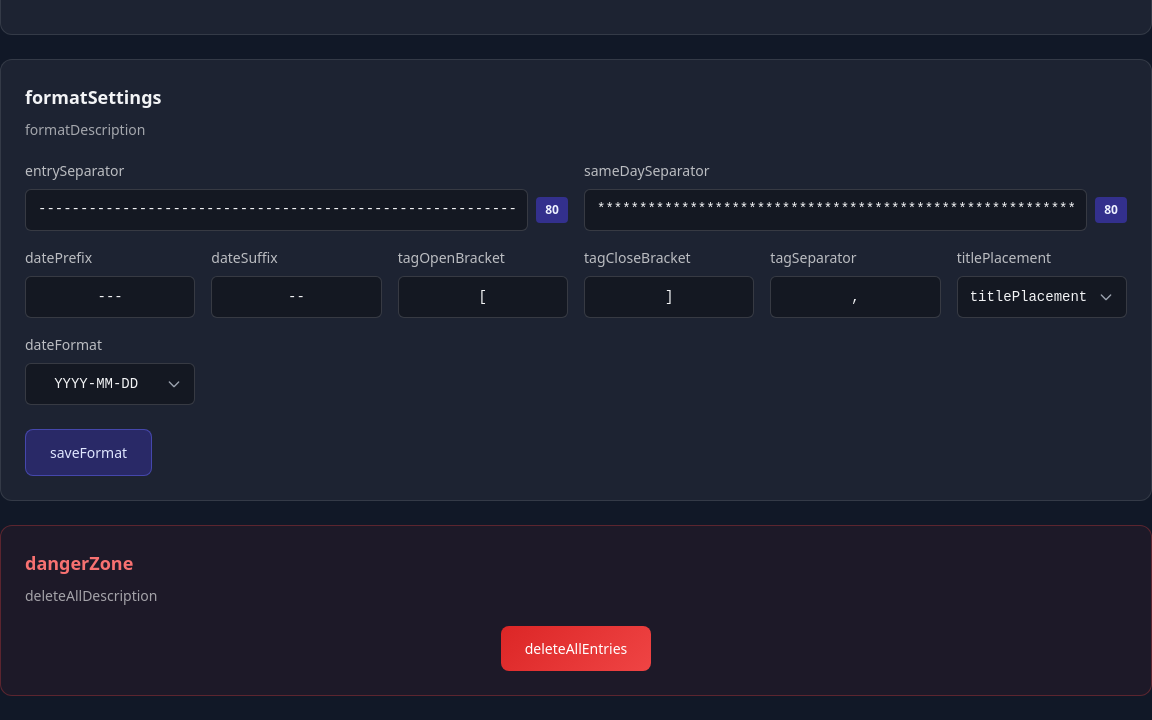
Test: ImportExport › cancels delete all when cancel is clicked
This screenshot has width=1152, height=720.
(page scrolled)
Click the button "deleteAllEntries". click: [576, 649]
box: top-left (501, 626), bottom-right (651, 671)
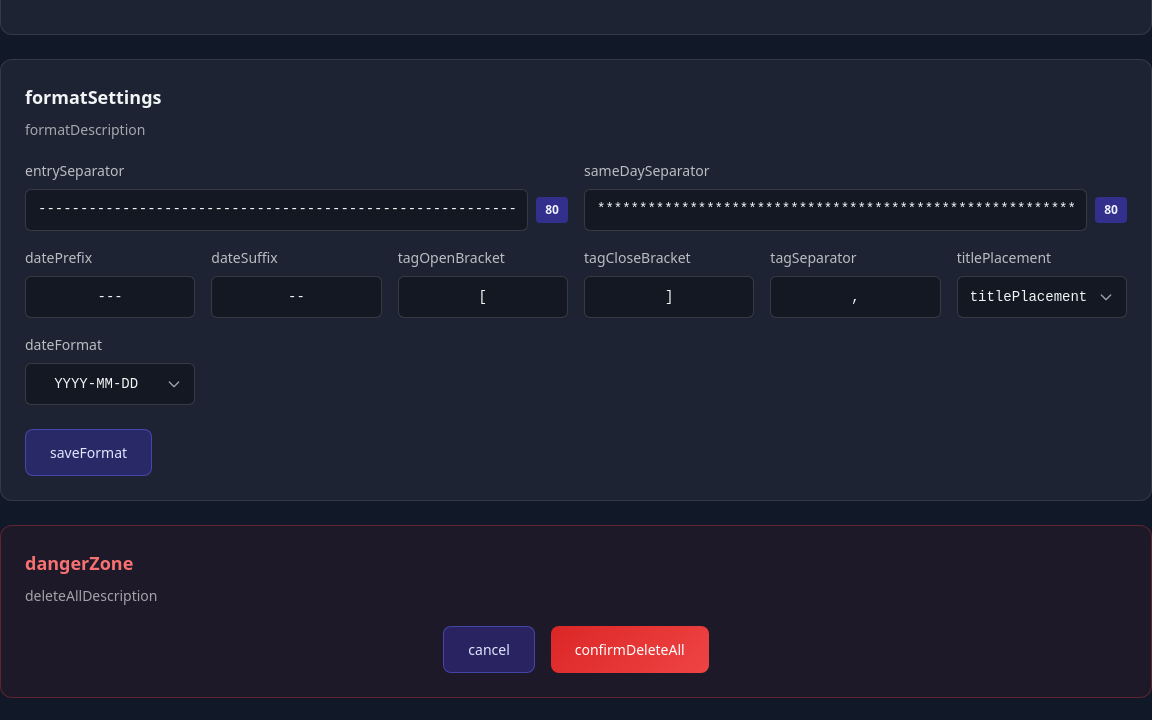
Click the button "cancel". click: [489, 650]
box: top-left (443, 626), bottom-right (535, 673)
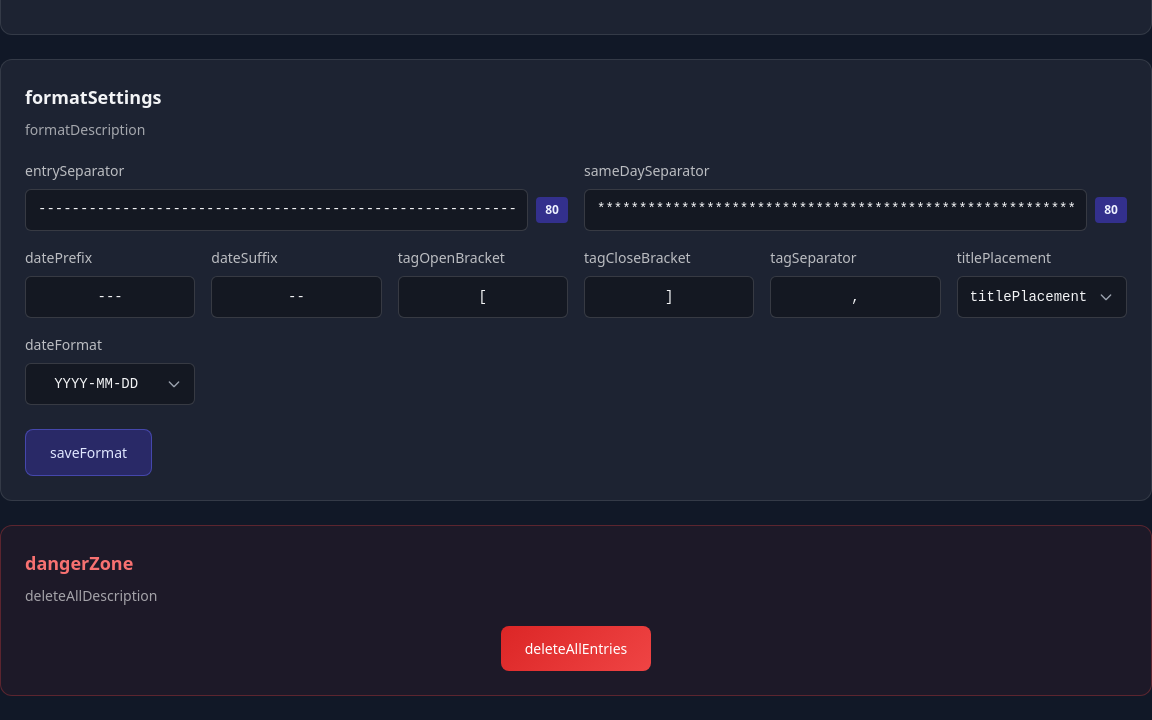
Now the button "deleteAllEntries" is shown, box top-left (501, 626), bottom-right (651, 671)
Now the button "confirmDeleteAll" is gone
